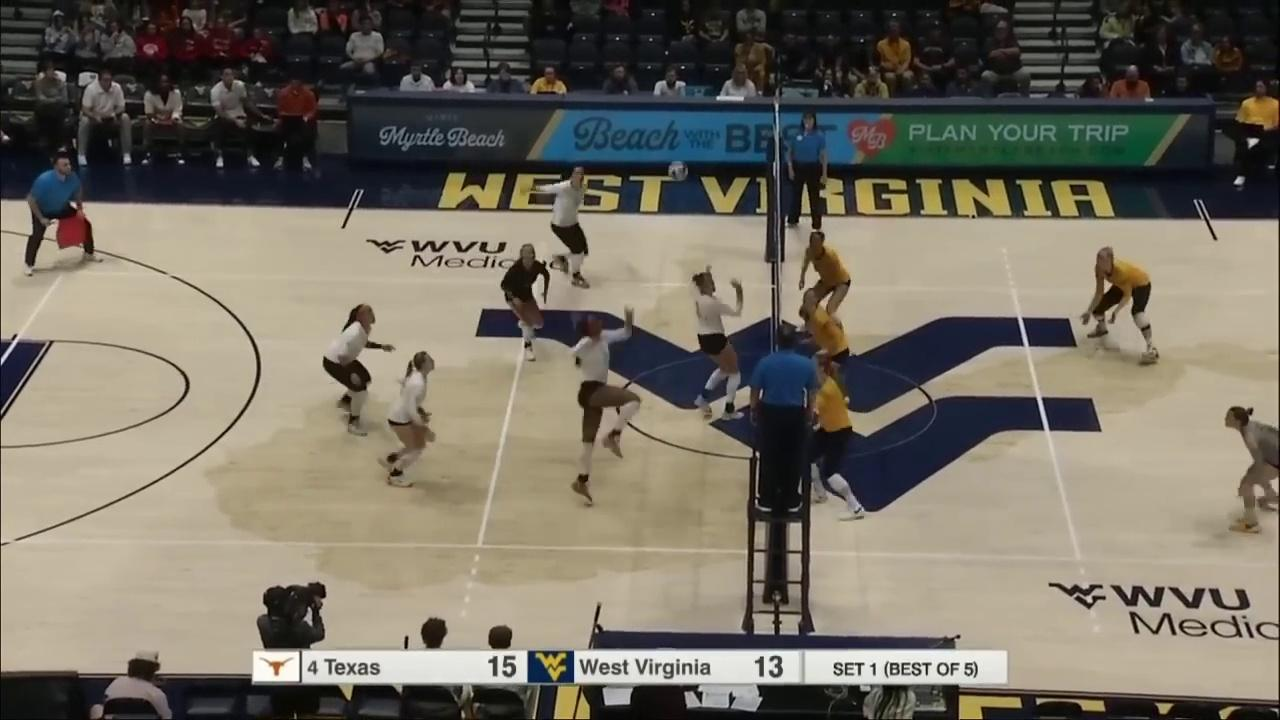player: (569, 305, 639, 507), (804, 357, 866, 519), (321, 305, 394, 437), (1082, 248, 1159, 367), (377, 351, 442, 487), (524, 168, 596, 286), (696, 263, 744, 423), (1225, 407, 1280, 534), (800, 290, 849, 414), (801, 232, 849, 351), (503, 243, 550, 361)
refree: (749, 332, 814, 511), (21, 156, 104, 276), (789, 112, 829, 232)
